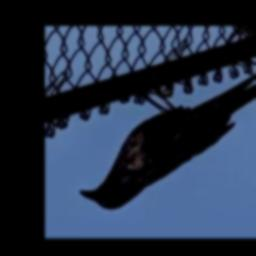Crow: (79, 68, 256, 210)
